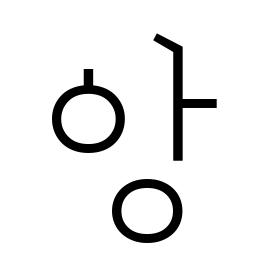Gaji: (153, 81, 204, 127)
